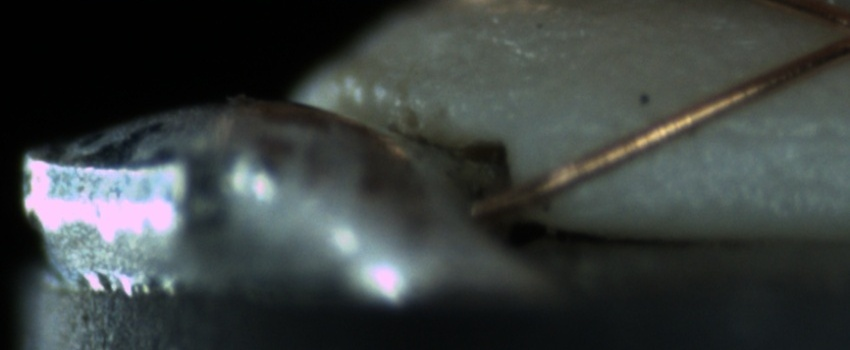CL: (829, 5, 850, 57)
DL: (558, 108, 847, 168)
